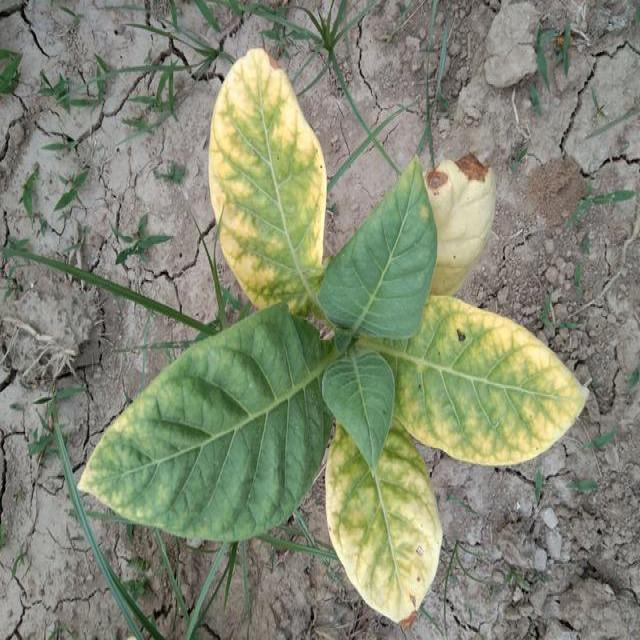crop: (73, 42, 595, 629)
